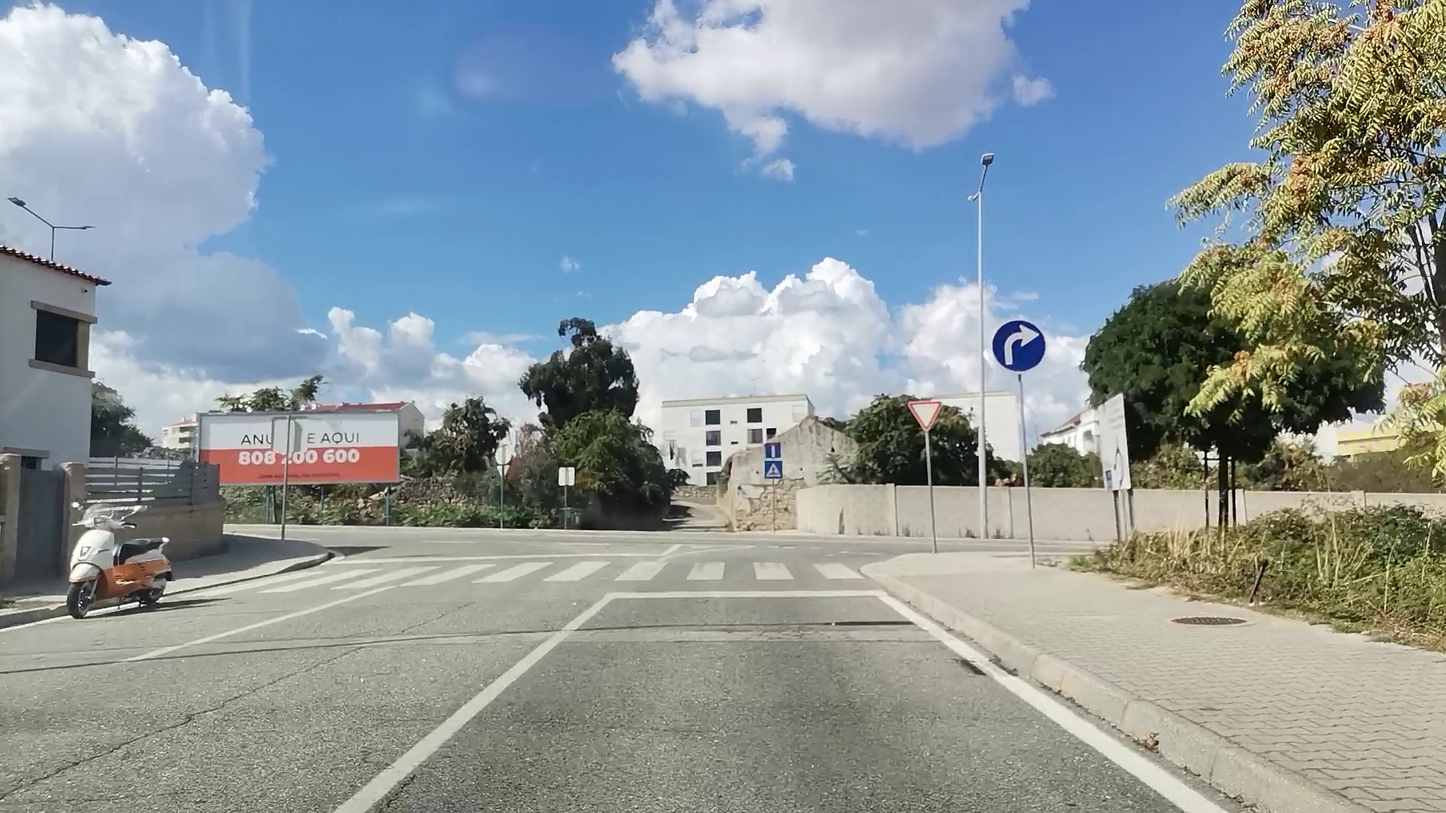Stairs: (205, 560, 867, 593)
